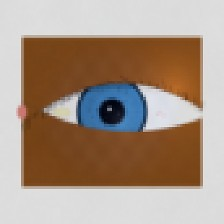pinguecula_lesion: (44, 98, 80, 127)
